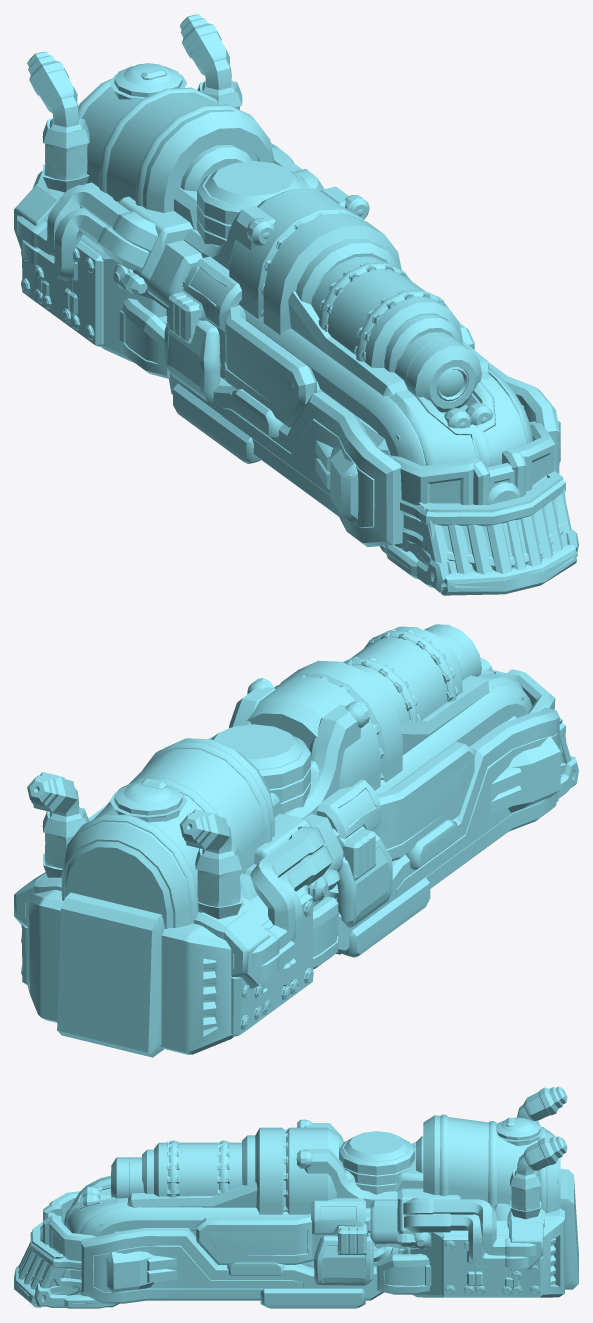
The model's file is train_engine_glass.fbx.
The picture shows the model from 3 angles, top to bottom: view 1: azimuth 30°, elevation 25°; view 2: azimuth 150°, elevation 25°; view 3: azimuth 270°, elevation 25°; orthographic projection. The views are drawn at different scales.
Visible parts, largest first — view 1: train_engine_glass1; view 2: train_engine_glass1; view 3: train_engine_glass1.
Boxes of the visible parts, <box> form: train_engine_glass1: <box>14,14,578,595</box>; train_engine_glass1: <box>14,624,578,1057</box>; train_engine_glass1: <box>14,1086,578,1308</box>.
Bounding box in the file's own units: 54.97 × 55.72 × 164.
